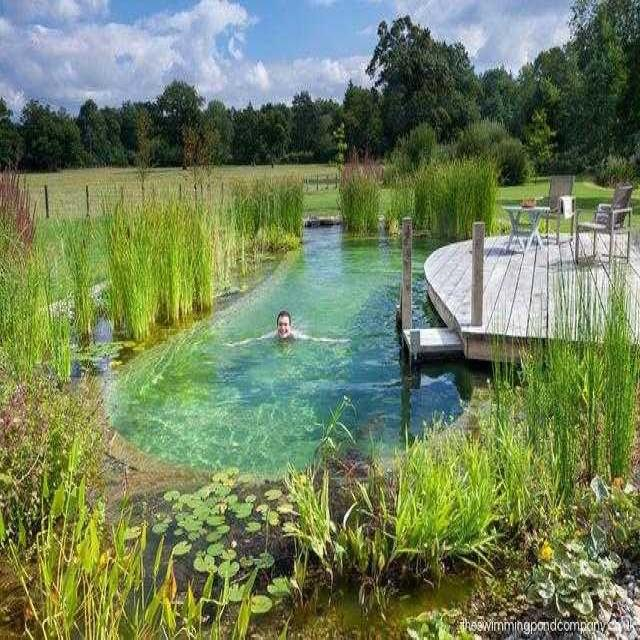Ponds: (112, 222, 516, 474)
